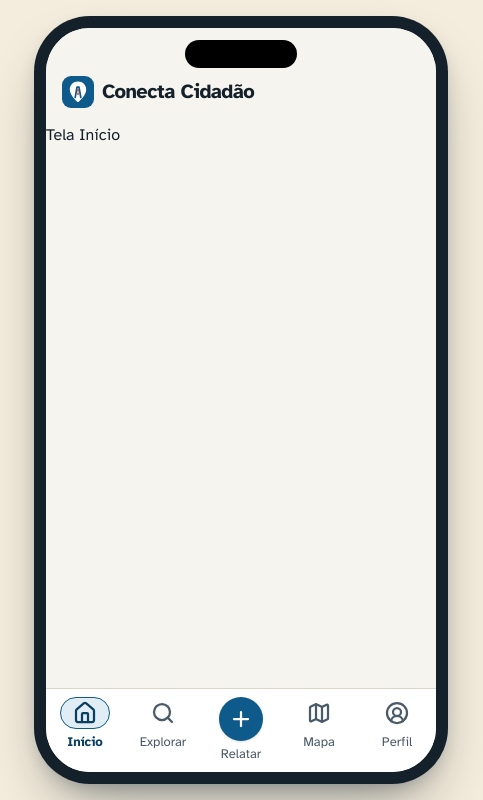
AppShell + navegação › navega entre as abas
The image size is (483, 800).
Expected: the text "Tela Início" is shown, [46,125,120,145]
Click the link "Mapa": click(319, 725) [303,700,335,750]
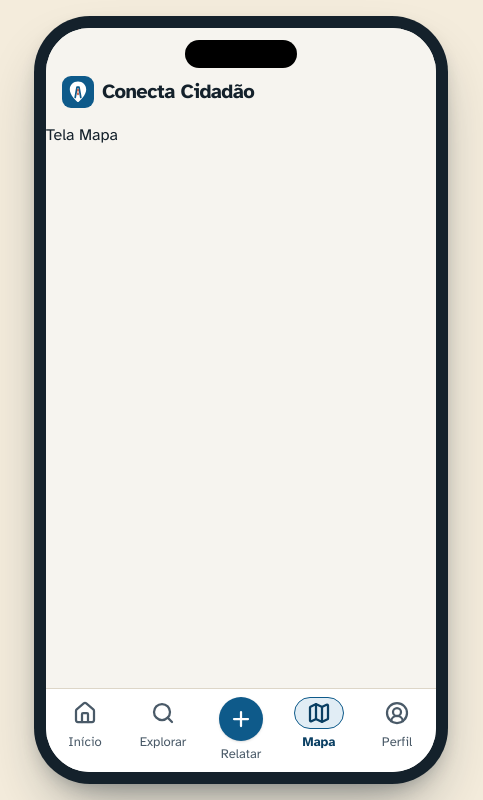
Expected: the text "Tela Mapa" is shown, [46,125,118,145]
